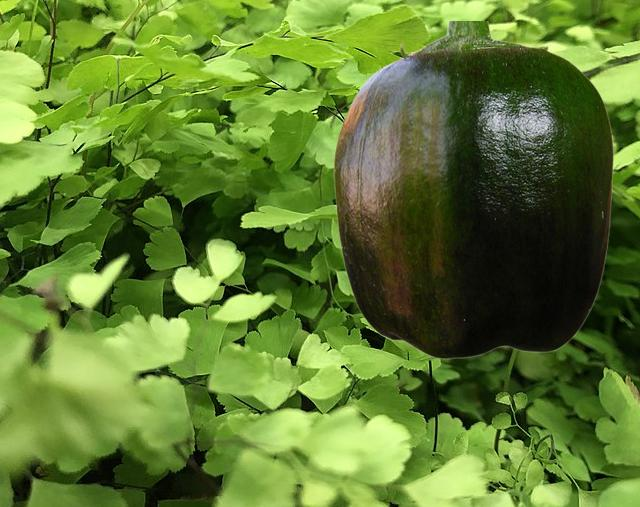bell_pepper: (333, 21, 613, 358)
